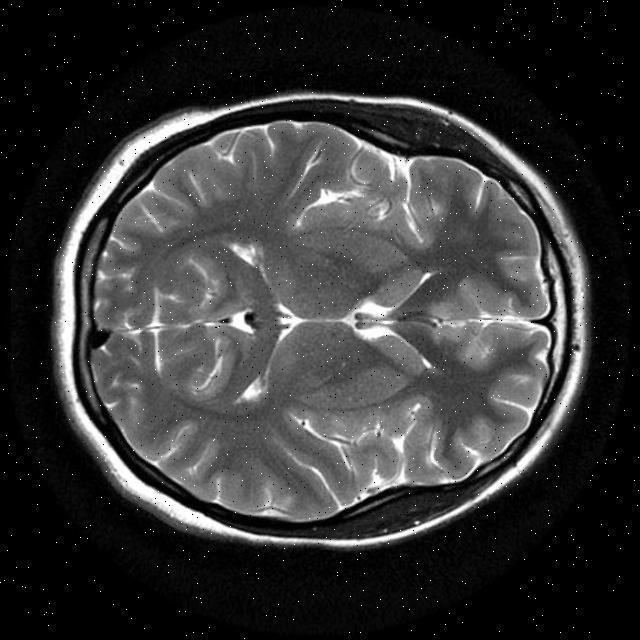No_Tumor: (53, 93, 589, 548)
